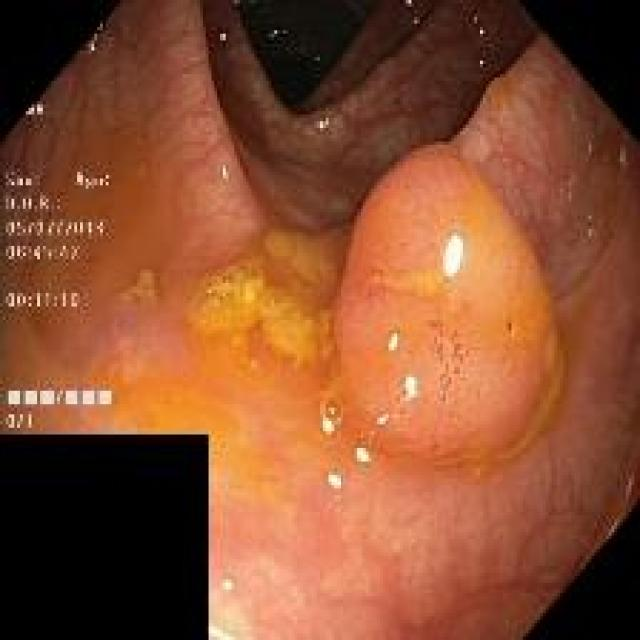Polyps: (334, 144, 562, 463)
